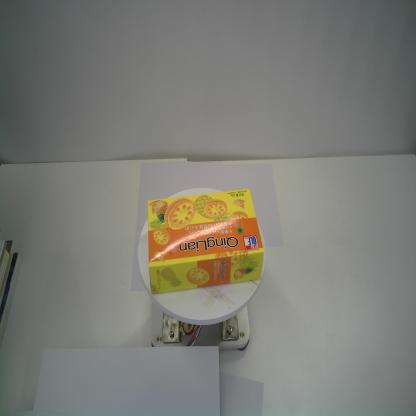Dessert: (146, 186, 265, 296)
